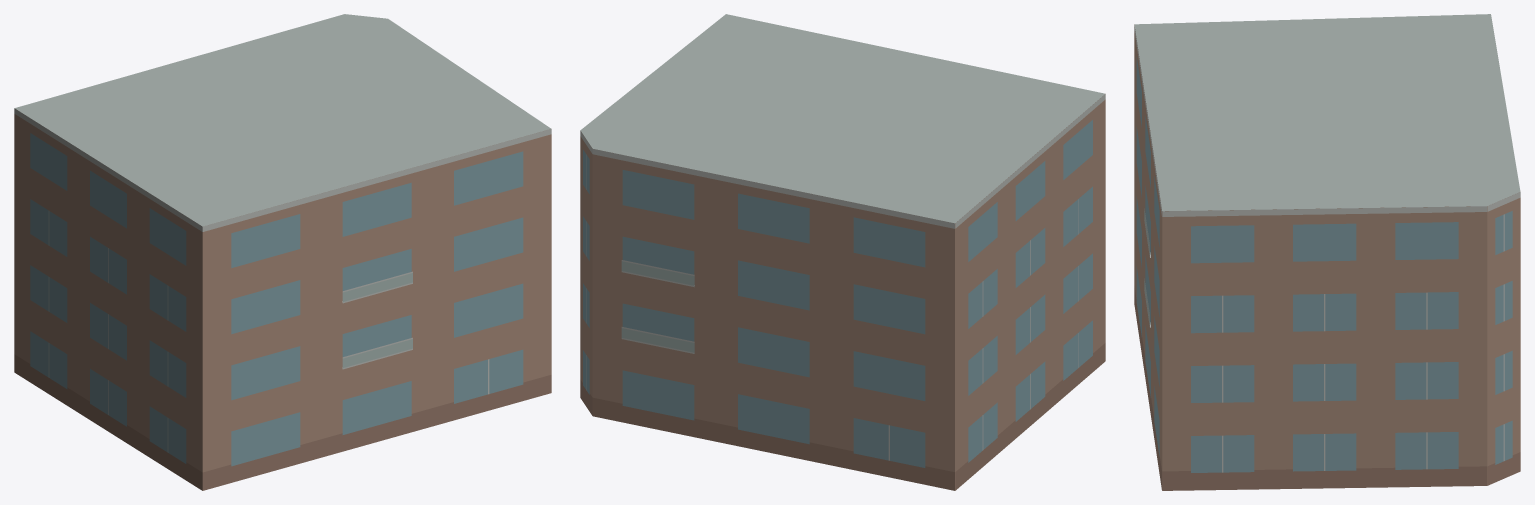
File: survey-upis-32737447.glb
3 renders of one model, left to right at view 1: azimuth 30°, elevation 25°; view 2: azimuth 150°, elevation 25°; view 3: azimuth 270°, elevation 25°, orthographic. The views are drawn at different scales.
Visible parts, largest first — view 1: survey-upis-32737447.tmp; view 2: survey-upis-32737447.tmp; view 3: survey-upis-32737447.tmp.
Boxes of the visible parts, left/top/right/bottom form: survey-upis-32737447.tmp: left=14, top=14, right=551, bottom=490; survey-upis-32737447.tmp: left=580, top=14, right=1105, bottom=490; survey-upis-32737447.tmp: left=1134, top=14, right=1520, bottom=490.
Size of the model in its own units: 17.7 by 11.7 by 14.65.
